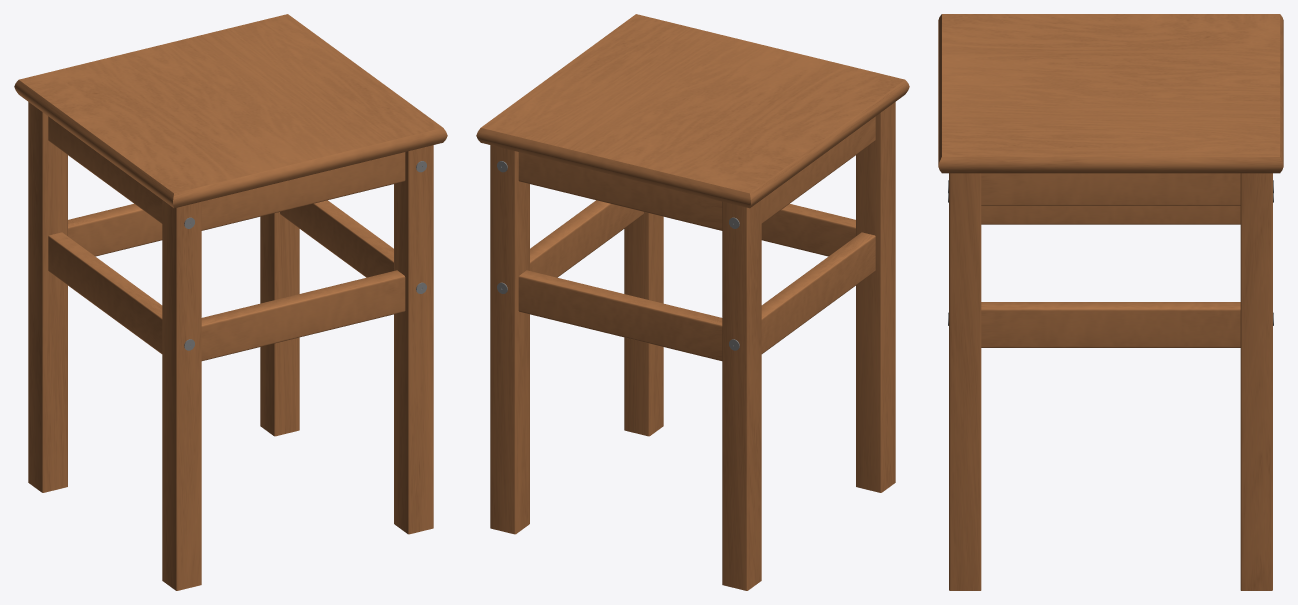
Rendered from wooden_stool.glb.
3 renders of one model, left to right at view 1: azimuth 30°, elevation 25°; view 2: azimuth 150°, elevation 25°; view 3: azimuth 270°, elevation 25°, orthographic. The views are drawn at different scales.
Parts seen in each view (by area): view 1: Cube.001_1, Cube_0, Cube.002_2, Cube.005_4, Cube.007_7, Cube.004_6, Cube.003_3, Cube.009_9; view 2: Cube.001_1, Cube_0, Cube.003_3, Cube.006_5, Cube.007_7, Cube.004_6, Cube.002_2, Cube.009_9; view 3: Cube_0, Cube.001_1, Cube.004_6, Cube.008_8, Cube.007_7.
Part boxes in pixels (left/top/right/bottom): Cube.001_1: left=28, top=102, right=433, bottom=590; Cube_0: left=14, top=14, right=447, bottom=208; Cube.002_2: left=201, top=270, right=405, bottom=360; Cube.005_4: left=201, top=152, right=405, bottom=230; Cube.007_7: left=48, top=232, right=162, bottom=353; Cube.004_6: left=280, top=200, right=393, bottom=277; Cube.003_3: left=68, top=204, right=162, bottom=256; Cube.009_9: left=48, top=116, right=162, bottom=223; Cube.001_1: left=490, top=102, right=895, bottom=590; Cube_0: left=476, top=14, right=909, bottom=208; Cube.003_3: left=518, top=270, right=722, bottom=360; Cube.006_5: left=518, top=152, right=722, bottom=230; Cube.007_7: left=761, top=232, right=875, bottom=353; Cube.004_6: left=530, top=200, right=643, bottom=277; Cube.002_2: left=761, top=204, right=855, bottom=256; Cube.009_9: left=761, top=116, right=875, bottom=223; Cube_0: left=938, top=14, right=1283, bottom=173; Cube.001_1: left=949, top=173, right=1272, bottom=590; Cube.004_6: left=981, top=302, right=1240, bottom=347; Cube.008_8: left=981, top=173, right=1240, bottom=205; Cube.007_7: left=981, top=206, right=1240, bottom=224.
Bounding box in the file's own units: 0.32 × 0.4468 × 0.32.
2 materials, 1 textured.
